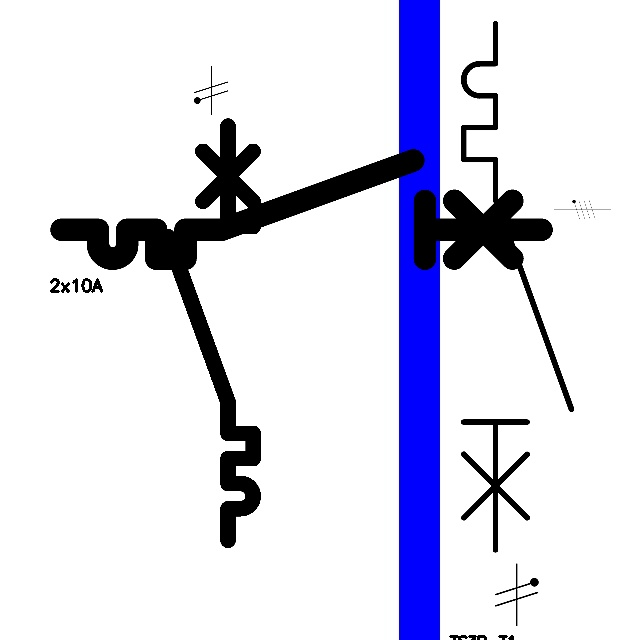interruptor_termomagnetico: (450, 10, 585, 563), (49, 148, 553, 271), (157, 115, 264, 551)
